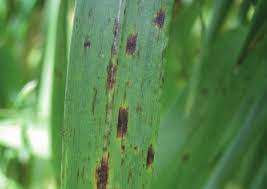Bercak Coklat: (89, 153, 111, 189), (115, 103, 131, 143), (123, 30, 141, 61), (142, 142, 157, 169), (151, 8, 166, 31)
